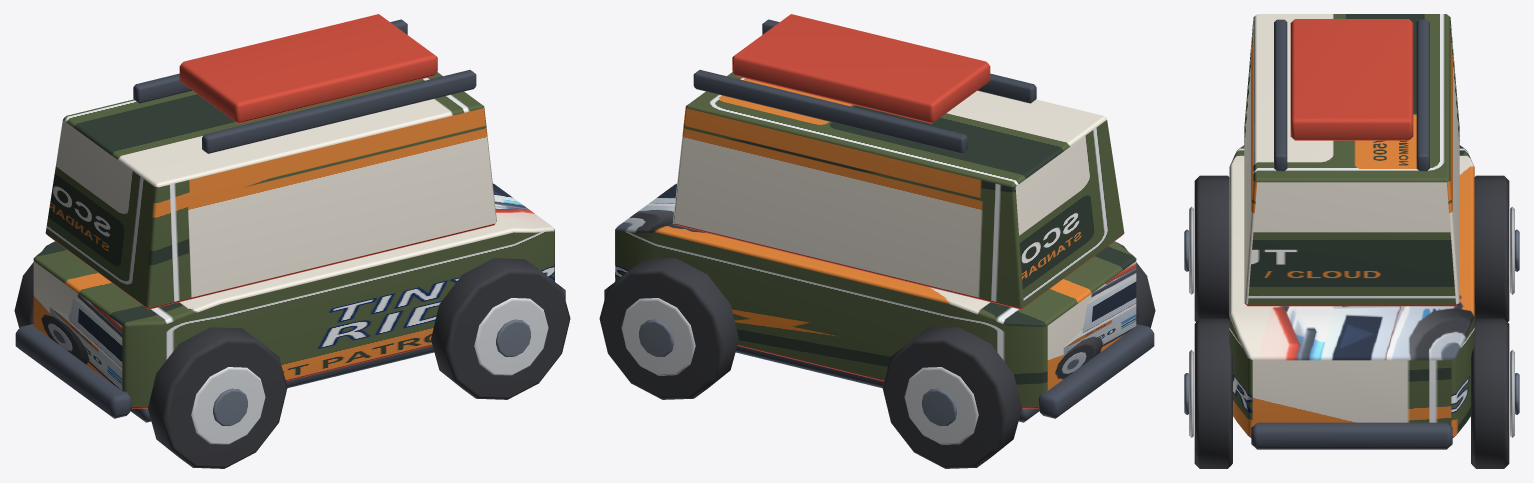
3 renders of one model, left to right at view 1: azimuth 30°, elevation 25°; view 2: azimuth 150°, elevation 25°; view 3: azimuth 270°, elevation 25°, orthographic. The views are drawn at different scales.
Parts seen in each view (by area): view 1: DP-05_cabin, DP-05_connected_shell, utility load, Tire, Tire.002, utility rail, front bumper, Rim, Rim.002, underbody, utility rail.001, Hub.002 (+2 smaller); view 2: DP-05_cabin, DP-05_connected_shell, utility load, Tire.001, Tire.003, utility rail.001, front bumper, Rim.001, Rim.003, underbody, utility rail, Hub.003 (+2 smaller); view 3: DP-05_cabin, DP-05_connected_shell, utility load, Tire.002, Tire.003, rear bumper, Tire, Tire.001, utility rail, utility rail.001, Rim.002, Rim.003 (+2 smaller).
Boxes of the visible parts, x1,y1,x2,y2 form: DP-05_cabin: [45, 72, 496, 309]; DP-05_connected_shell: [33, 183, 554, 408]; utility load: [179, 14, 437, 123]; Tire: [148, 327, 287, 468]; Tire.002: [431, 258, 570, 399]; utility rail: [202, 70, 476, 153]; front bumper: [15, 324, 131, 418]; Rim: [191, 367, 265, 444]; Rim.002: [474, 298, 548, 375]; underbody: [131, 346, 434, 422]; utility rail.001: [133, 19, 407, 103]; Hub.002: [496, 319, 530, 356]; DP-05_cabin: [673, 72, 1124, 309]; DP-05_connected_shell: [615, 183, 1136, 408]; utility load: [732, 14, 990, 123]; Tire.001: [882, 327, 1021, 468]; Tire.003: [599, 258, 738, 399]; utility rail.001: [693, 70, 967, 153]; front bumper: [1038, 324, 1154, 418]; Rim.001: [904, 367, 978, 444]; Rim.003: [621, 298, 695, 375]; underbody: [735, 346, 1038, 422]; utility rail: [762, 19, 1036, 103]; Hub.003: [639, 319, 673, 356]; DP-05_cabin: [1244, 14, 1459, 306]; DP-05_connected_shell: [1229, 145, 1474, 437]; utility load: [1290, 19, 1413, 140]; Tire.002: [1194, 318, 1232, 468]; Tire.003: [1471, 318, 1509, 468]; rear bumper: [1251, 422, 1452, 449]; Tire: [1194, 175, 1229, 321]; Tire.001: [1474, 175, 1509, 321]; utility rail: [1274, 19, 1287, 171]; utility rail.001: [1416, 19, 1429, 171]; Rim.002: [1189, 349, 1193, 437]; Rim.003: [1510, 349, 1514, 437].
Bounding box in the file's own units: 370 × 247 × 227.
